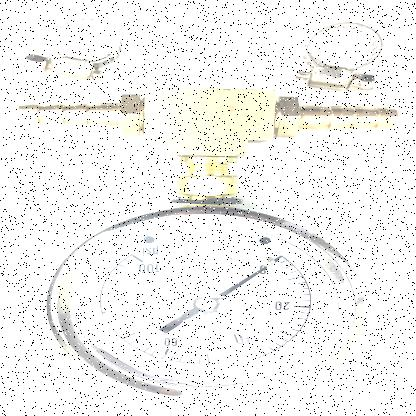needle: (212, 258, 279, 301)
